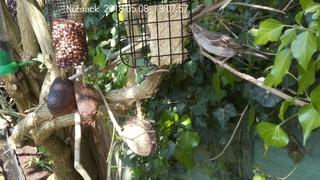sparrow: (188, 22, 269, 69)
